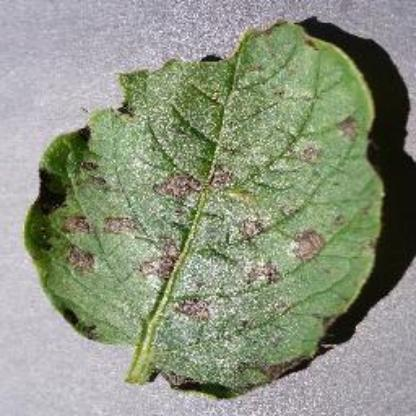Early-Blight: (24, 18, 396, 396)
